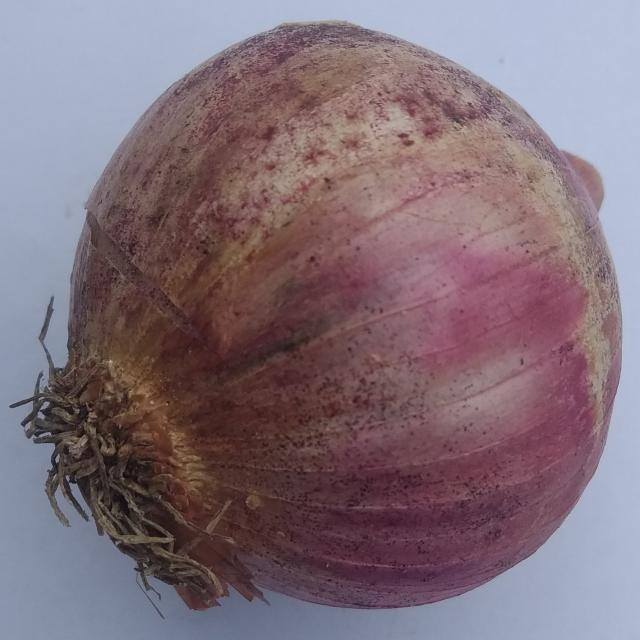onion: (7, 18, 624, 624)
